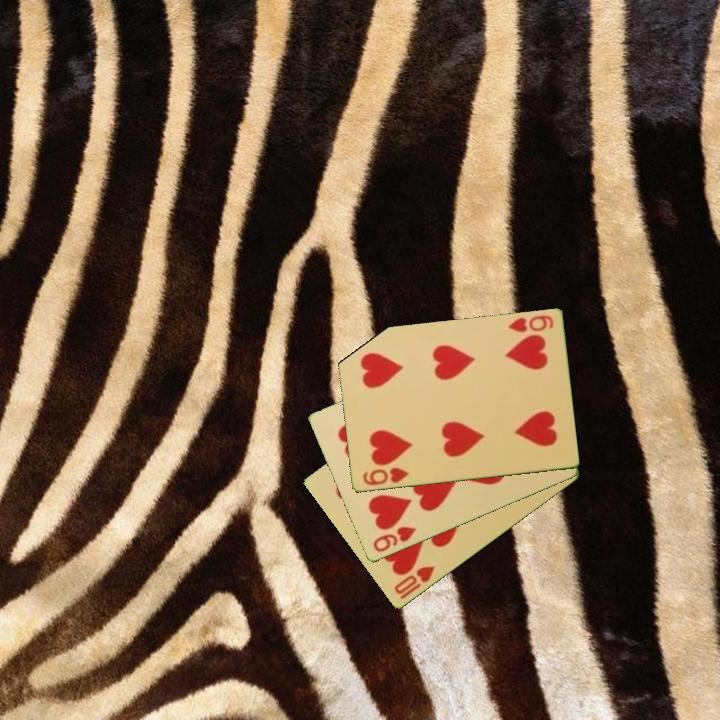10h: (390, 562, 438, 603)
6h: (359, 464, 411, 489), (504, 312, 556, 336)
9h: (369, 523, 419, 556)
